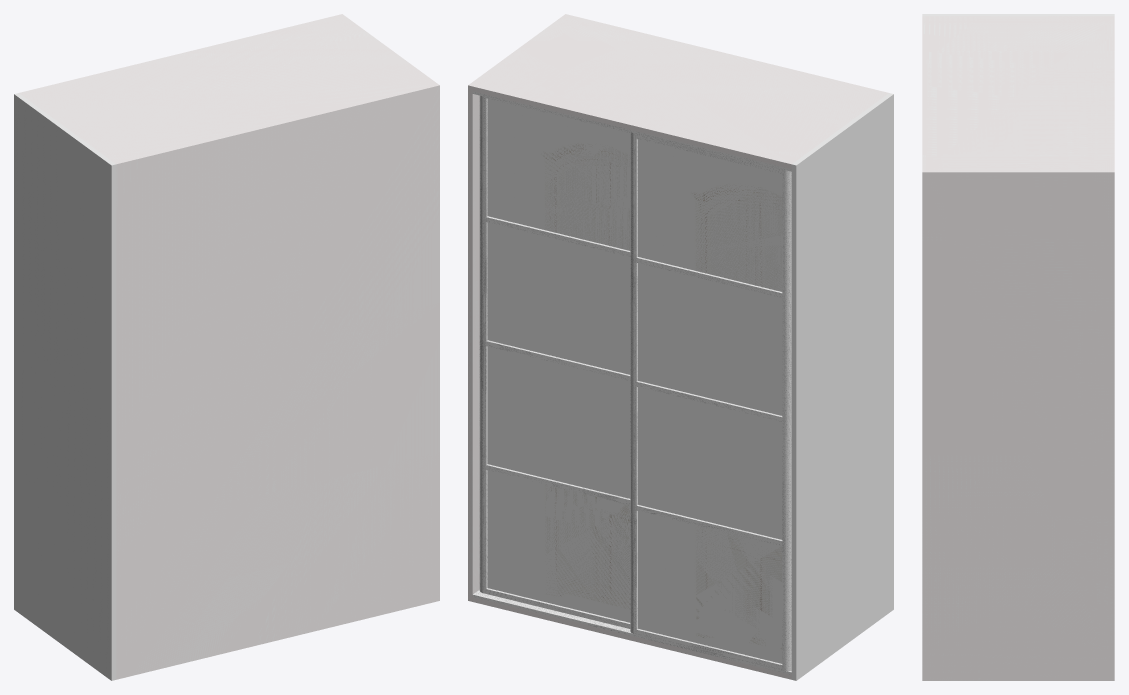
3 renders of one model, left to right at view 1: azimuth 30°, elevation 25°; view 2: azimuth 150°, elevation 25°; view 3: azimuth 270°, elevation 25°, orthographic.
Visible parts, largest first — view 1: mesh1_mesh1-geometry, mesh6_mesh6-geometry; view 2: mesh8_mesh8-geometry, mesh6_mesh6-geometry, mesh1_mesh1-geometry, mesh10_mesh10-geometry, mesh11_mesh11-geometry; view 3: mesh1_mesh1-geometry, mesh6_mesh6-geometry.
Boxes of the visible parts, bbox=[...] form: mesh1_mesh1-geometry: bbox=[19, 14, 439, 679]; mesh6_mesh6-geometry: bbox=[14, 93, 116, 680]; mesh8_mesh8-geometry: bbox=[486, 97, 782, 669]; mesh6_mesh6-geometry: bbox=[791, 93, 893, 680]; mesh1_mesh1-geometry: bbox=[468, 14, 888, 679]; mesh10_mesh10-geometry: bbox=[479, 95, 637, 634]; mesh11_mesh11-geometry: bbox=[782, 169, 791, 671]; mesh1_mesh1-geometry: bbox=[922, 16, 1114, 680]; mesh6_mesh6-geometry: bbox=[922, 14, 1114, 16].
Bounding box in the file's own units: 0.5334 × 0.8001 × 0.2743.
